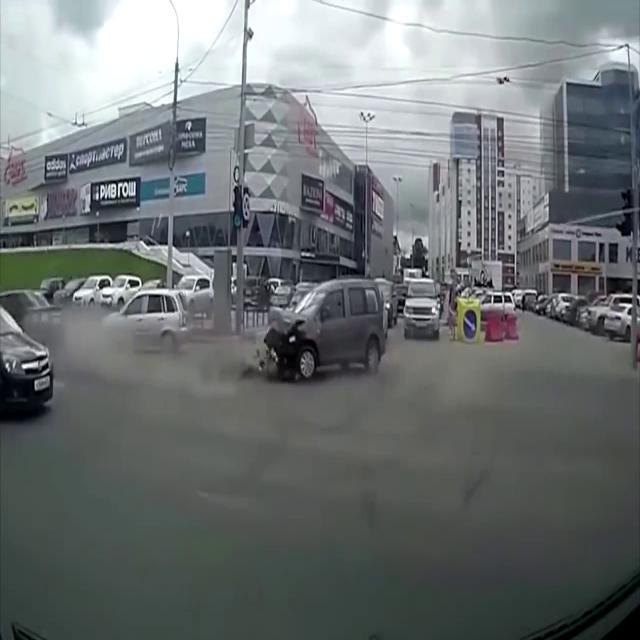multiple_accident: (0, 208, 217, 463), (259, 269, 401, 380)
normal: (581, 295, 635, 339)
